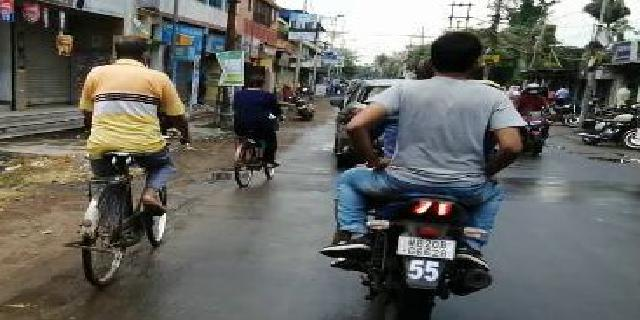Cycle: (65, 29, 196, 291), (229, 74, 283, 192)
Motorbike: (331, 20, 506, 320), (517, 75, 556, 165)
